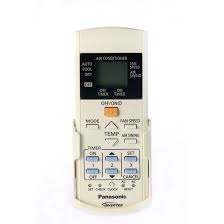remote control: (71, 29, 156, 217)
